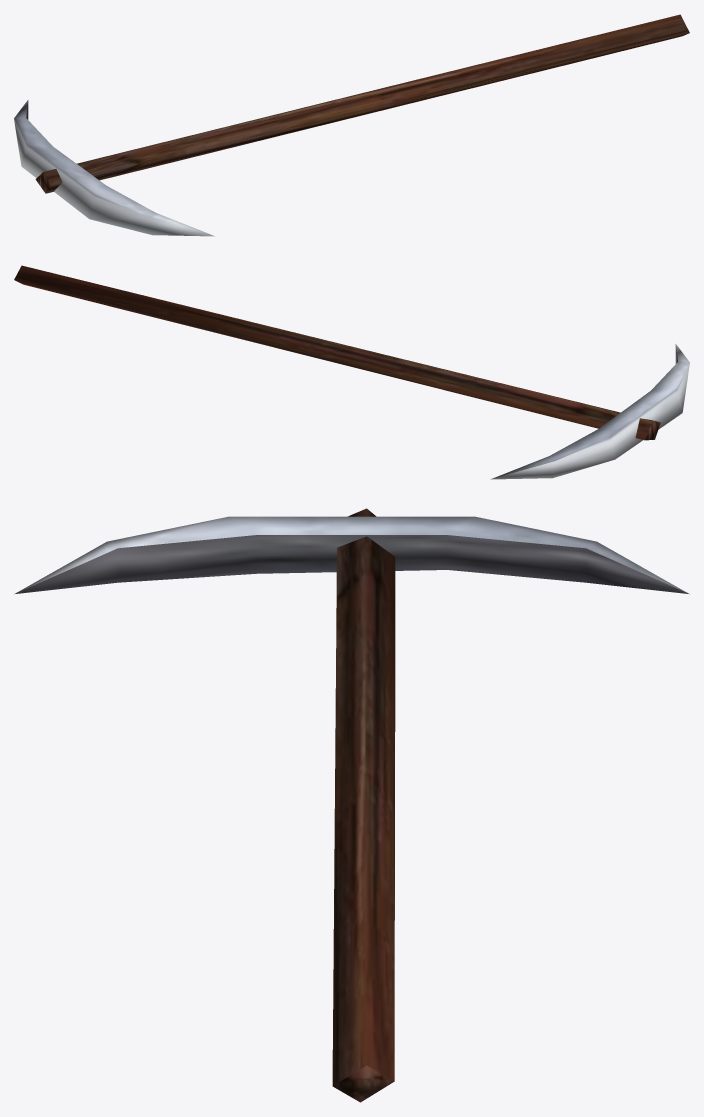
File: ITMW_020_2H_PICKAXE_01.glb
3 views of the same model, one above another, from view 1: azimuth 30°, elevation 25°; view 2: azimuth 150°, elevation 25°; view 3: azimuth 270°, elevation 25° (orthographic). The views are drawn at different scales.
Parts seen in each view (by area): view 1: Mesh; view 2: Mesh; view 3: Mesh.
Part boxes in pixels (x1=…): Mesh: x1=14, y1=14, x2=689, y2=236; Mesh: x1=14, y1=265, x2=689, y2=479; Mesh: x1=14, y1=508, x2=689, y2=1102.
Size of the model in its own units: 0.9265 by 0.0351 by 0.4722.
Materials: 1 (1 with a texture image).
